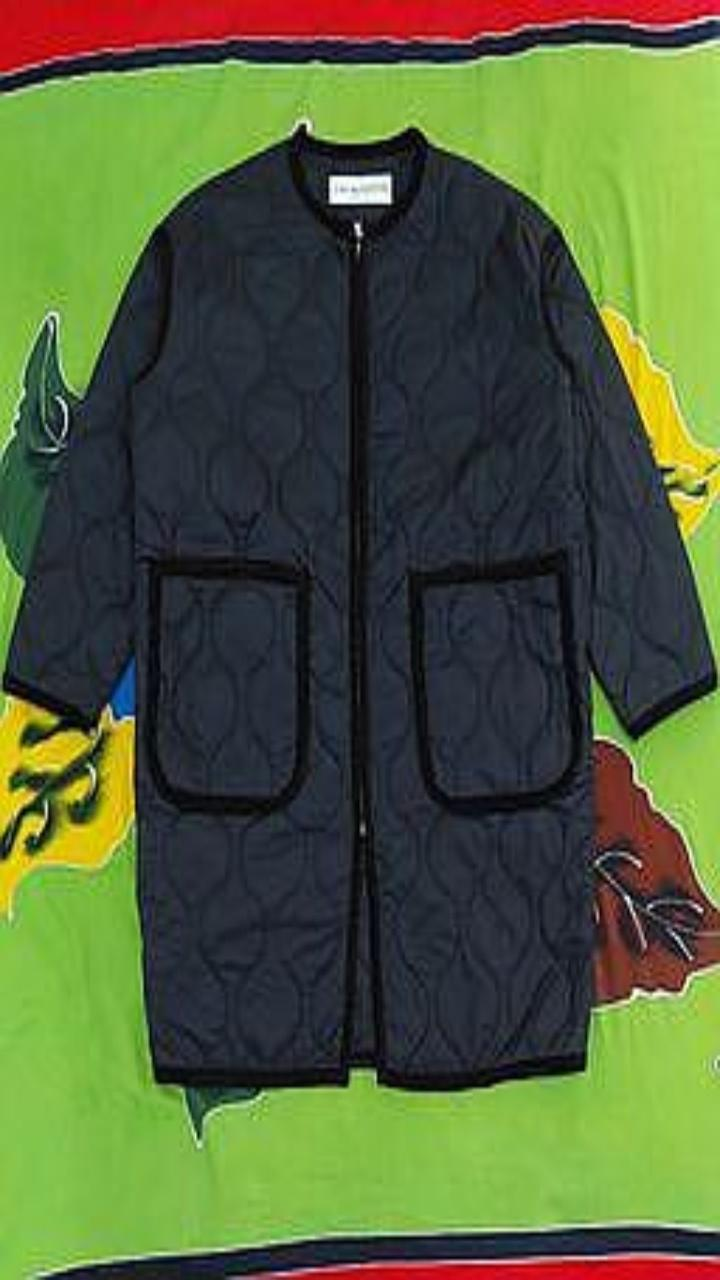Sports_Jacket: (3, 124, 715, 1087)
